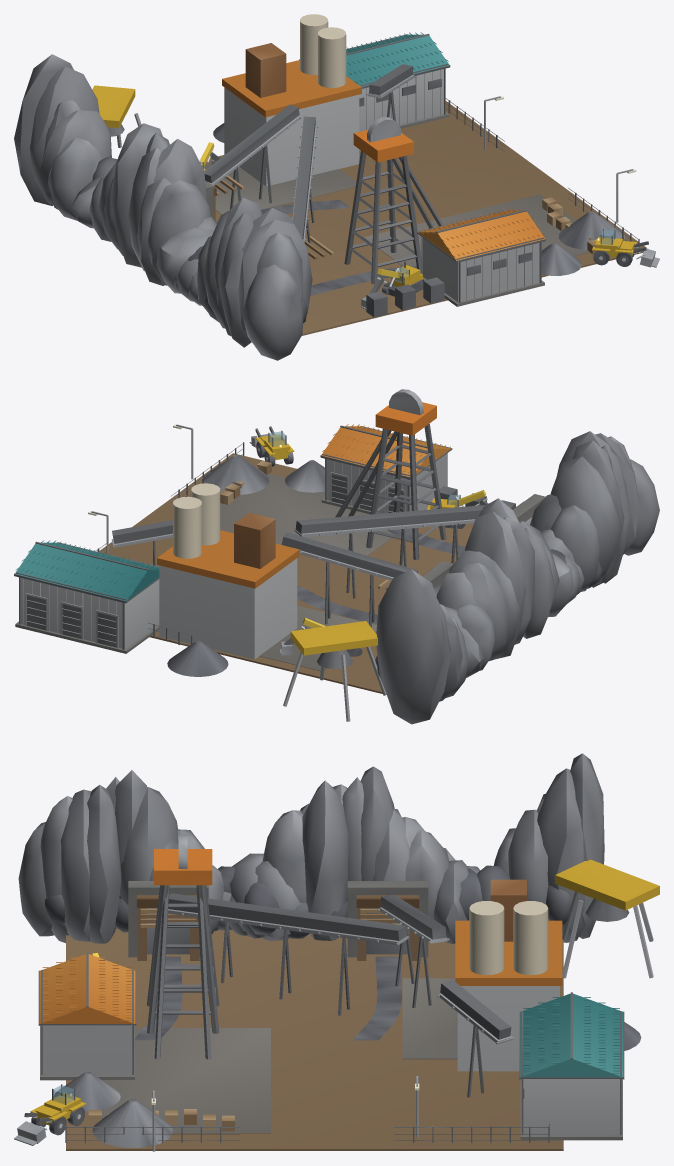
Rendered from Mine_P2.fbx.
3 renders of one model, top to bottom at view 1: azimuth 30°, elevation 25°; view 2: azimuth 150°, elevation 25°; view 3: azimuth 270°, elevation 25°, orthographic. The views are drawn at different scales.
Visible parts, largest first — view 1: Mine.Cliff, Mine.Apron, Mine.Plant, Mine.Winder, Mine.Crusher, Mine.Headframe, Mine.Conv1, Mine.Clutter, Mine.Conv0, Mine.Loader, Mine.LoadGantry, Mine.Spoil0 (+7 smaller); view 2: Mine.Cliff, Mine.Plant, Mine.Apron, Mine.Crusher, Mine.Headframe, Mine.Winder, Mine.Conv0, Mine.LoadGantry, Mine.Conv1, Mine.Spoil0, Mine.Spoil2, Mine.ConvOut (+9 smaller); view 3: Mine.Apron, Mine.Cliff, Mine.Crusher, Mine.Plant, Mine.Winder, Mine.Headframe, Mine.Conv0, Mine.LoadGantry, Mine.Adit1, Mine.Adit0, Mine.Conv1, Mine.Spoil0 (+7 smaller).
Part boxes in pixels (x1=…): Mine.Cliff: x1=14, y1=54, x2=312, y2=360; Mine.Apron: x1=204, y1=101, x2=646, y2=335; Mine.Plant: x1=222, y1=14, x2=361, y2=186; Mine.Winder: x1=417, y1=208, x2=546, y2=306; Mine.Crusher: x1=299, y1=32, x2=450, y2=131; Mine.Headframe: x1=344, y1=117, x2=443, y2=284; Mine.Conv1: x1=204, y1=104, x2=301, y2=208; Mine.Clutter: x1=366, y1=197, x2=595, y2=317; Mine.Conv0: x1=291, y1=116, x2=318, y2=243; Mine.Loader: x1=592, y1=229, x2=659, y2=267; Mine.LoadGantry: x1=92, y1=85, x2=141, y2=147; Mine.Spoil0: x1=558, y1=211, x2=624, y2=250; Mine.Cliff: x1=375, y1=431, x2=659, y2=724; Mine.Plant: x1=157, y1=483, x2=299, y2=659; Mine.Apron: x1=99, y1=453, x2=473, y2=694; Mine.Crusher: x1=14, y1=540, x2=159, y2=653; Mine.Headframe: x1=335, y1=389, x2=446, y2=559; Mine.Winder: x1=320, y1=424, x2=452, y2=514; Mine.Conv0: x1=294, y1=503, x2=510, y2=598; Mine.LoadGantry: x1=283, y1=621, x2=386, y2=721; Mine.Conv1: x1=281, y1=532, x2=418, y2=627; Mine.Spoil0: x1=202, y1=455, x2=269, y2=494; Mine.Spoil2: x1=167, y1=640, x2=228, y2=676; Mine.ConvOut: x1=111, y1=520, x2=172, y2=565; Mine.Apron: x1=66, y1=928, x2=563, y2=1150; Mine.Cliff: x1=18, y1=753, x2=604, y2=943; Mine.Crusher: x1=519, y1=992, x2=624, y2=1140; Mine.Plant: x1=455, y1=879, x2=562, y2=1071; Mine.Winder: x1=38, y1=952, x2=136, y2=1080; Mine.Headframe: x1=147, y1=834, x2=219, y2=1059; Mine.Conv0: x1=168, y1=893, x2=408, y2=1015; Mine.LoadGantry: x1=555, y1=859, x2=659, y2=978; Mine.Adit1: x1=347, y1=881, x2=428, y2=960; Mine.Adit0: x1=128, y1=881, x2=208, y2=960; Mine.Conv1: x1=377, y1=894, x2=449, y2=1007; Mine.Spoil0: x1=92, y1=1099, x2=172, y2=1147.
Bounding box in the file's own units: 8551 × 3113 × 8829.
